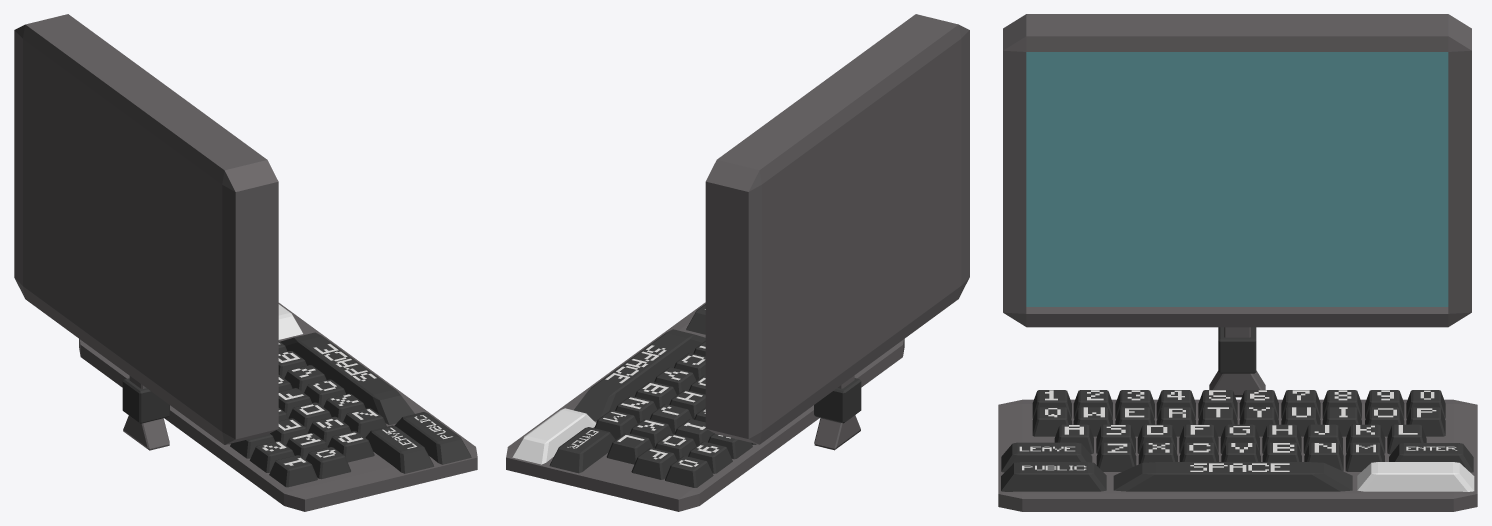
Rendered from Computer.fbx.
3 views of the same model, side by side, from view 1: azimuth 30°, elevation 25°; view 2: azimuth 150°, elevation 25°; view 3: azimuth 270°, elevation 25° (orthographic). The views are drawn at different scales.
Parts seen in each view (by area): view 1: Cube, Cube.003, Cube.043, Cube.044, Cube.039, Cube.002, Cube.001, Cube.004, Cube.023, Cube.025, Cube.005, Cube.040 (+9 smaller); view 2: Cube, Cube.003, Cube.043, Cube.042, Cube.041, Cube.002, Cube.001, Cube.012, Cube.015, Cube.032, Cube.013, Cube.035 (+9 smaller); view 3: Cube, Cube.003, Cube.043, Cube.042, Cube.044, Cube.039, Cube.002, Cube.041, Cube.001, Cube.040, Cube.023, Cube.035 (+33 smaller).
Part boxes in pixels (x1,y1,x2,y2): Cube: [14, 14, 278, 444]; Cube.003: [79, 303, 477, 511]; Cube.043: [280, 332, 414, 424]; Cube.044: [394, 412, 471, 464]; Cube.039: [365, 425, 433, 473]; Cube.002: [122, 378, 169, 423]; Cube.001: [123, 376, 169, 450]; Cube.004: [269, 455, 317, 487]; Cube.023: [305, 447, 350, 479]; Cube.025: [327, 431, 374, 462]; Cube.005: [249, 441, 294, 472]; Cube.040: [343, 408, 386, 437]; Cube: [705, 14, 969, 444]; Cube.003: [506, 302, 904, 511]; Cube.043: [574, 329, 705, 421]; Cube.042: [512, 408, 596, 464]; Cube.041: [549, 427, 615, 473]; Cube.002: [814, 378, 861, 423]; Cube.001: [814, 375, 860, 450]; Cube.012: [665, 456, 713, 487]; Cube.015: [631, 448, 676, 479]; Cube.032: [606, 433, 652, 464]; Cube.013: [688, 441, 732, 473]; Cube.035: [594, 410, 637, 439]; Cube: [1003, 14, 1471, 327]; Cube.003: [998, 399, 1477, 511]; Cube.043: [1113, 462, 1352, 491]; Cube.042: [1357, 462, 1474, 491]; Cube.044: [1001, 462, 1106, 491]; Cube.039: [1001, 442, 1092, 472]; Cube.002: [1218, 327, 1256, 373]; Cube.041: [1389, 443, 1473, 472]; Cube.001: [1209, 327, 1265, 397]; Cube.040: [1096, 442, 1136, 471]; Cube.023: [1032, 407, 1071, 436]; Cube.035: [1345, 442, 1384, 471].
Size of the model in its own units: 131 by 174 by 204.
